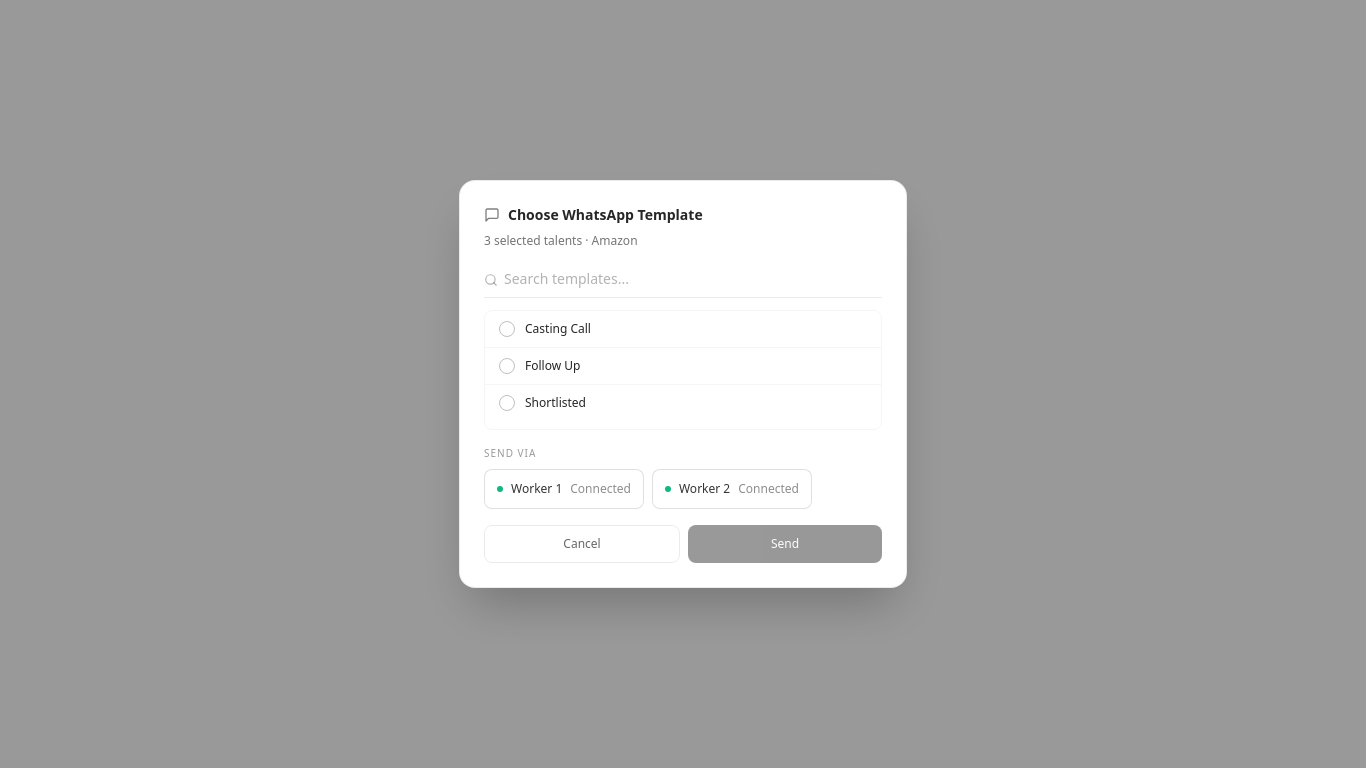
Test case: PipelineTemplateSend — the picker › searches templates by name
This screenshot has width=1366, height=768.
Expected: the button with test id "template-picker-option-t-cc" is shown, [485,311,881,347]
In the field with test id "template-picker-search": (683, 280) [484,261,882,298], type "follow"
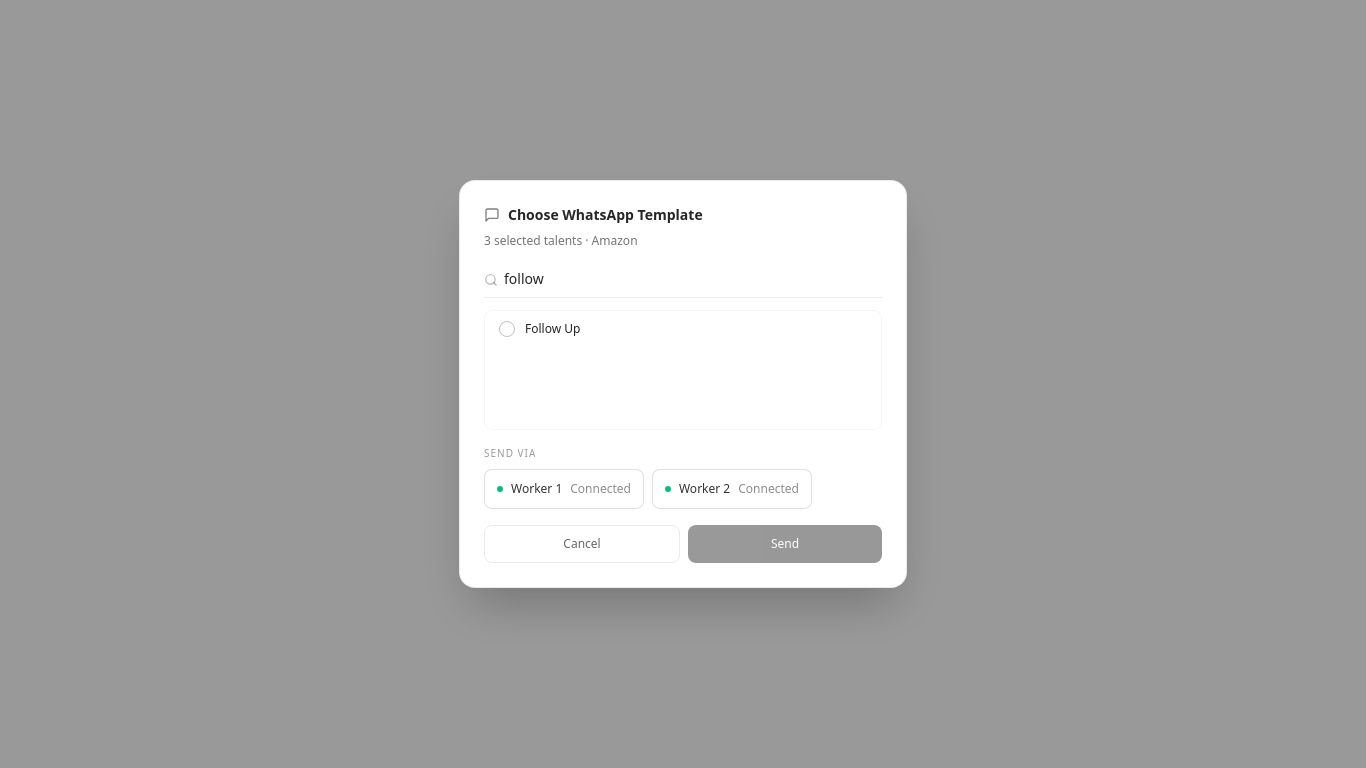
Expected: the button with test id "template-picker-option-t-fu" is shown, [485,311,881,347]
Expected: the button with test id "template-picker-option-t-cc" is gone
Replace the text in the field with test id "template-picker-search" with "zzz": (683, 280) [484,261,882,298]
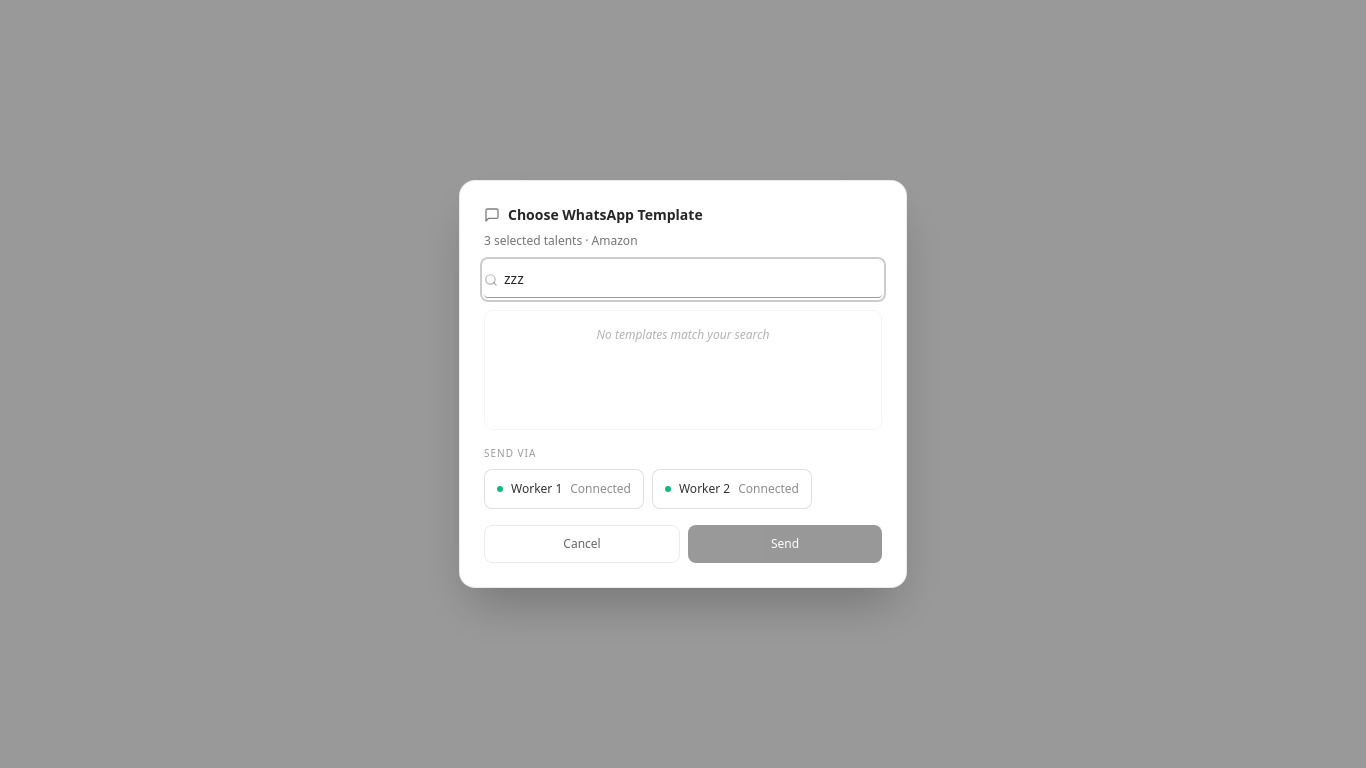
Expected: the text "No templates match your search" is shown, [596,326,769,343]
